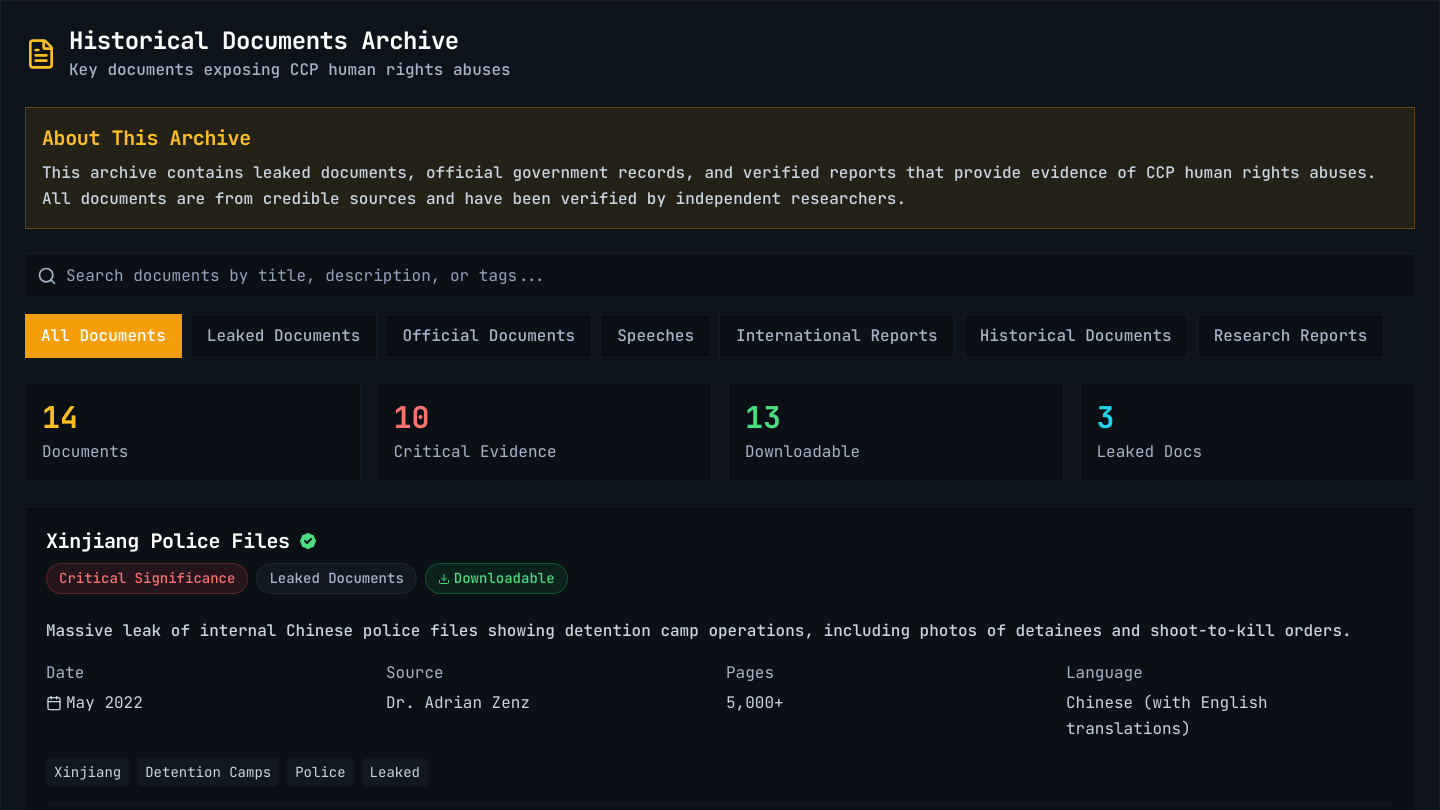
HistoricalDocuments › shows no results message for empty search
Type "xyznonexistent" into the field labelled "Search" at (720, 276), box [25,253,1415,298]
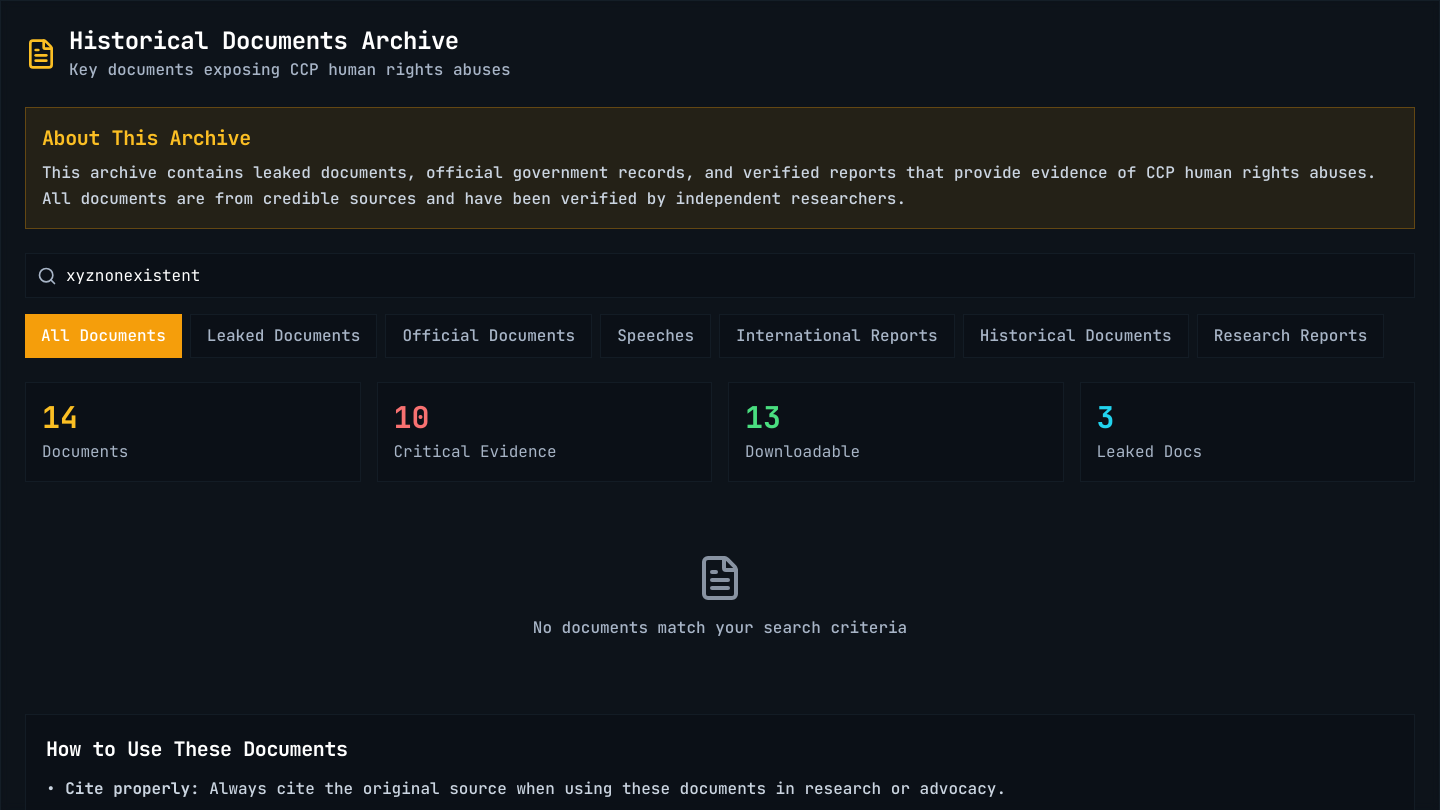
Now the text "No documents match your search criteria" is shown, box [533,617,907,638]
